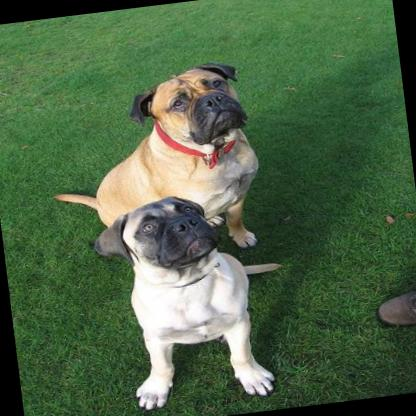bull_mastiff: (38, 53, 274, 275), (84, 181, 294, 413)
